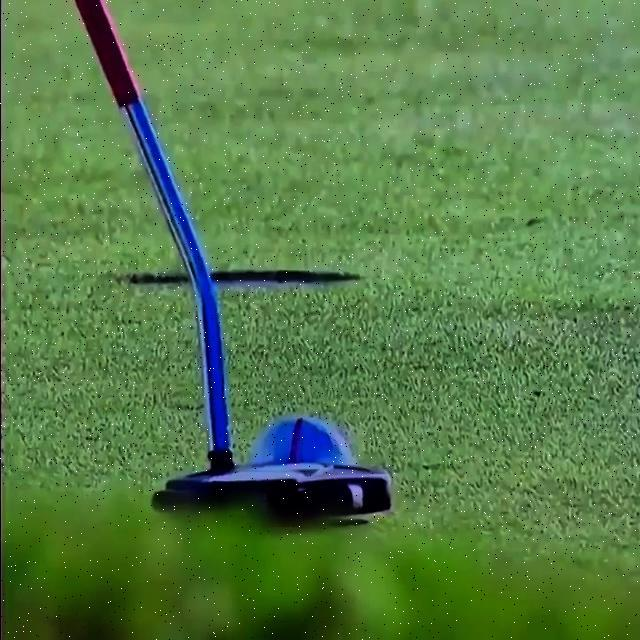golf ball: (252, 413, 353, 462)
golf club-handle: (77, 0, 390, 519)
golf club-head: (150, 460, 389, 517)
